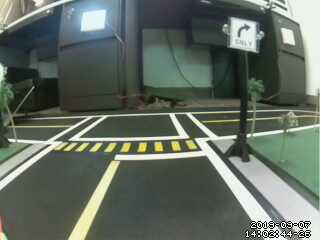Right_only_sign: (230, 16, 257, 50)
